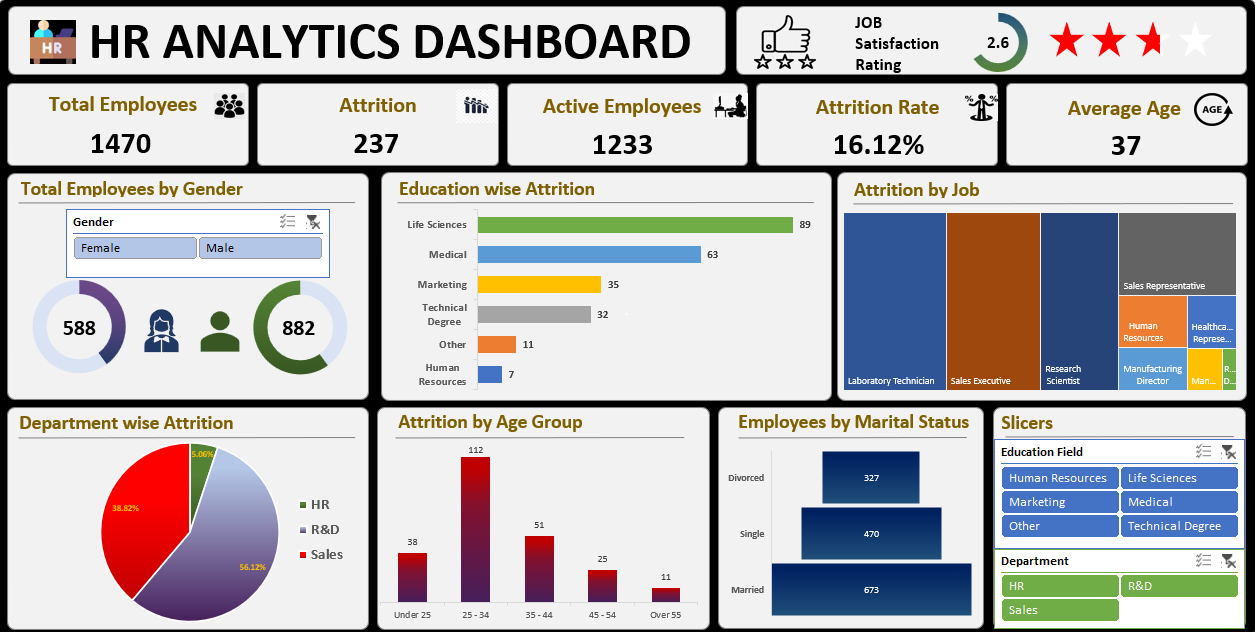

This screenshot's page, from the dashboard's own definition file:
{"tool":"powerbi","page":{"name":"Page 1","canvas":[1280,720],"ordinal":0},"visuals":[{"type":"card","title":"Overall Employees","fields":{"Values":["Sum(HR data.Employee Count)"]},"box":[17.7,64,239.5,109.3],"z":0},{"type":"card","title":"Attrition","fields":{"Values":["Sum(HR data.Attrition Count)"]},"box":[267.7,64,240.7,109.3],"z":1000},{"type":"card","title":"Attrition Rate","fields":{"Values":["HR data.Attrition Rate"]},"box":[518.8,64,240.7,109.3],"z":2000},{"type":"card","title":"Active Employees","fields":{"Values":["HR data.Active Employees"]},"box":[771.2,64,239.5,109.3],"z":3000},{"type":"card","title":"Average Age","fields":{"Values":["Avg(HR data.Age)"]},"box":[1022.3,64,239.5,109.3],"z":4000},{"type":"pieChart","title":"Department wise Attrition","fields":{"Category":["HR data.Department"],"Y":["Sum(HR data.Attrition Count)"]},"box":[17.4,188.4,386,279.1],"z":5000},{"type":"columnChart","title":"No of Employees by Age Group","fields":{"Category":["HR data.CF_age band"],"Y":["Sum(HR data.Employee Count)"],"Series":["HR data.Gender"]},"box":[415.1,188.4,386,279.1],"z":6000},{"type":"pivotTable","title":"Job Satisfaction Rating","fields":{"Rows":["HR data.Job Role"],"Columns":["HR data.Job Satisfaction"],"Values":["Sum(HR data.Employee Count)"]},"box":[816.3,190.7,445.3,276.7],"z":7000},{"type":"barChart","title":"Education Field wise Attrition","fields":{"Category":["HR data.Education Field"],"Y":["Sum(HR data.Attrition Count)"]},"box":[17.4,476.7,417.4,243],"z":8000},{"type":"donutChart","title":"Under 25","fields":{"Category":["HR data.Gender"],"Y":["Sum(HR data.Attrition Count)"],"Series":["HR data.CF_age band"]},"box":[443,514,166.3,205.8],"z":9000},{"type":"textbox","title":"Attrition Rate by Gender for Different Age Groups","box":[443,467.4,837.2,37.2],"z":10000},{"type":"donutChart","title":"25 - 34","fields":{"Category":["HR data.Gender"],"Y":["Sum(HR data.Attrition Count)"],"Series":["HR data.CF_age band"]},"box":[608.1,514,173.3,205.8],"z":11000},{"type":"donutChart","title":"35 - 44","fields":{"Category":["HR data.Gender"],"Y":["Sum(HR data.Attrition Count)"],"Series":["HR data.CF_age band"]},"box":[781.4,514,166.3,205.8],"z":12000},{"type":"donutChart","title":"45 - 54","fields":{"Category":["HR data.Gender"],"Y":["Sum(HR data.Attrition Count)"],"Series":["HR data.CF_age band"]},"box":[947.7,514,166.3,205.8],"z":13000},{"type":"donutChart","title":"Over 55","fields":{"Category":["HR data.Gender"],"Y":["Sum(HR data.Attrition Count)"],"Series":["HR data.CF_age band"]},"box":[1114,514,166.3,205.8],"z":14000},{"type":"card","fields":{"Values":["Sum(HR data.Attrition Count)"]},"box":[509,615,33.7,27.9],"z":15000},{"type":"card","fields":{"Values":["Sum(HR data.Attrition Count)"]},"box":[674,615.1,40.7,27.9],"z":16000},{"type":"card","fields":{"Values":["Sum(HR data.Attrition Count)"]},"box":[847.7,615.1,33.7,27.9],"z":16001},{"type":"card","fields":{"Values":["Sum(HR data.Attrition Count)"]},"box":[1015.1,615.1,33.7,27.9],"z":16002},{"type":"card","fields":{"Values":["Sum(HR data.Attrition Count)"]},"box":[1180.2,615.1,33.7,27.9],"z":16003},{"type":"textbox","title":"HR ANALYTICS DASHBOARD","box":[17.4,9.3,561.6,46.5],"z":16004},{"type":"slicer","fields":{"Values":["HR data.Education"]},"box":[589.5,9.3,667.4,46.5],"z":16005}]}

Visuals, with their boxes on the page's 1280x720 design canvas (x1, y1, x2, y2). These are canvas units, not pixel positions in the 1255x632 screenshot, which may show the page scaled, cropped or inside an application window:
"Overall Employees" card: crop(18, 64, 257, 173)
"Attrition" card: crop(268, 64, 508, 173)
"Attrition Rate" card: crop(519, 64, 760, 173)
"Active Employees" card: crop(771, 64, 1011, 173)
"Average Age" card: crop(1022, 64, 1262, 173)
"Department wise Attrition" pieChart: crop(17, 188, 403, 468)
"No of Employees by Age Group" columnChart: crop(415, 188, 801, 468)
"Job Satisfaction Rating" pivotTable: crop(816, 191, 1262, 467)
"Education Field wise Attrition" barChart: crop(17, 477, 435, 720)
"Under 25" donutChart: crop(443, 514, 609, 720)
"Attrition Rate by Gender for Different Age Groups" textbox: crop(443, 467, 1280, 505)
"25 - 34" donutChart: crop(608, 514, 781, 720)
"35 - 44" donutChart: crop(781, 514, 948, 720)
"45 - 54" donutChart: crop(948, 514, 1114, 720)
"Over 55" donutChart: crop(1114, 514, 1280, 720)
card - Sum(HR data.Attrition Count): crop(509, 615, 543, 643)
card - Sum(HR data.Attrition Count): crop(674, 615, 715, 643)
card - Sum(HR data.Attrition Count): crop(848, 615, 881, 643)
card - Sum(HR data.Attrition Count): crop(1015, 615, 1049, 643)
card - Sum(HR data.Attrition Count): crop(1180, 615, 1214, 643)
"HR ANALYTICS DASHBOARD" textbox: crop(17, 9, 579, 56)
slicer - HR data.Education: crop(590, 9, 1257, 56)
